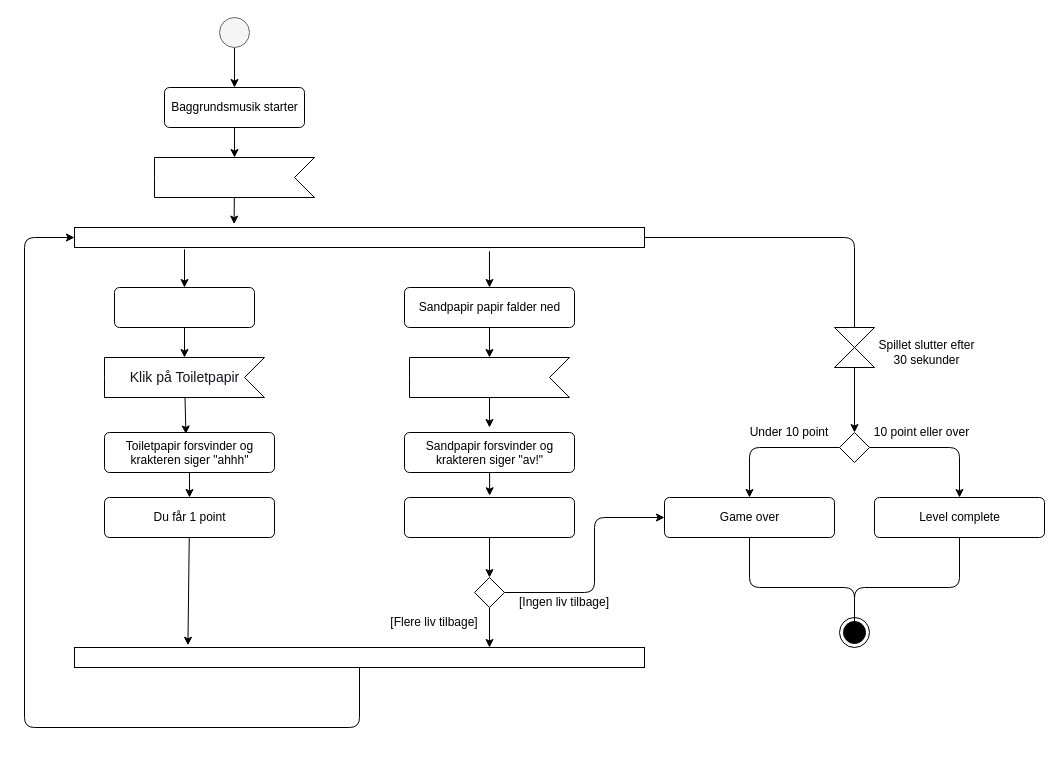
The diagram is 1062 pixels wide and 775 high, and some of its shapes have lost their labels. Each missing label, with the box of its shape:
Du mister et liv: (404, 496, 574, 538)
Klik på Sandpapir: (408, 356, 570, 398)
Klik på start: (154, 156, 314, 198)
Toiletpapir falder ned: (114, 286, 254, 328)
